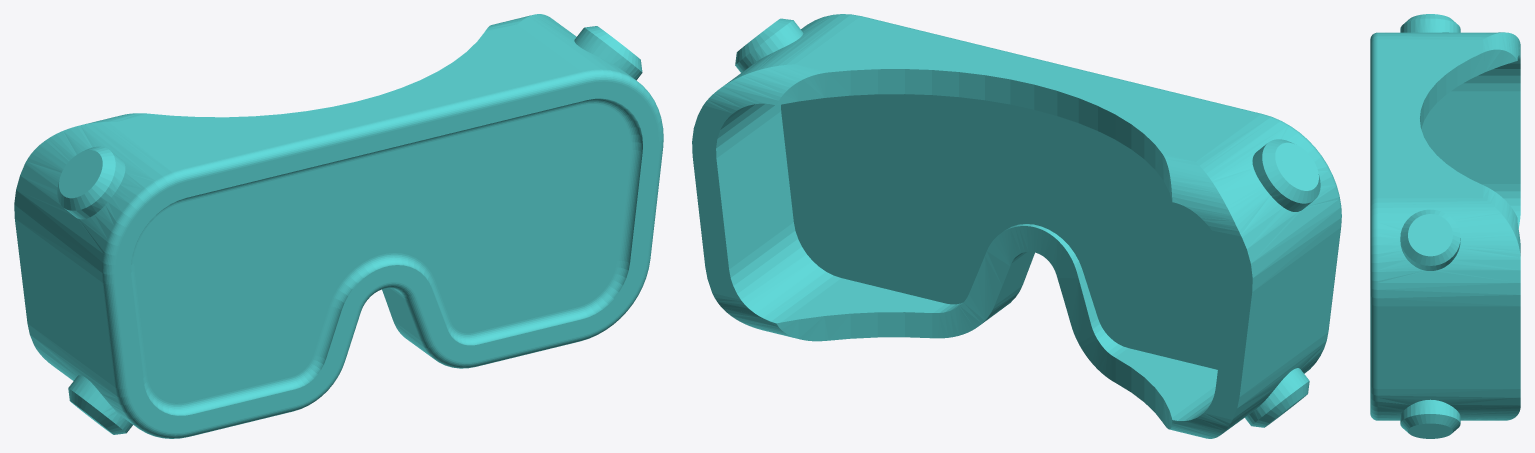
The model's file is goggles.glb.
3 views of the same model, side by side, from view 1: azimuth 30°, elevation 25°; view 2: azimuth 150°, elevation 25°; view 3: azimuth 270°, elevation 25° (orthographic). The views are drawn at different scales.
Parts seen in each view (by area): view 1: Object_2; view 2: Object_2; view 3: Object_2.
Boxes of the visible parts, x1,y1,x2,y2 form: Object_2: [14, 14, 663, 438]; Object_2: [692, 14, 1341, 438]; Object_2: [1370, 14, 1520, 438].
Size of the model in its own units: 43.23 by 20.37 by 12.1.
